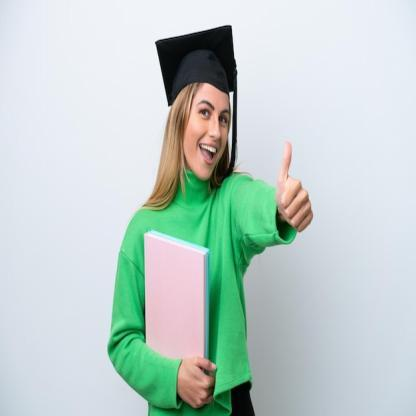thumb_up: (271, 139, 314, 236)
